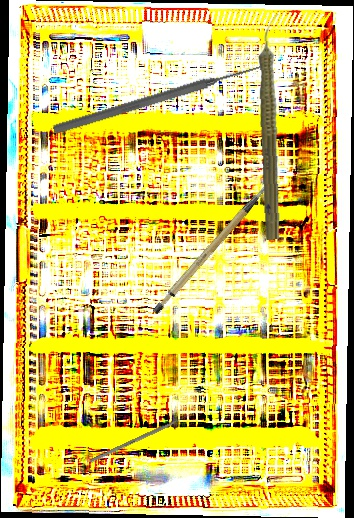Handpiece: (254, 14, 289, 240)
Pusher: (51, 58, 268, 138), (89, 410, 196, 464)
Scalpel Handle: (137, 181, 290, 317)
